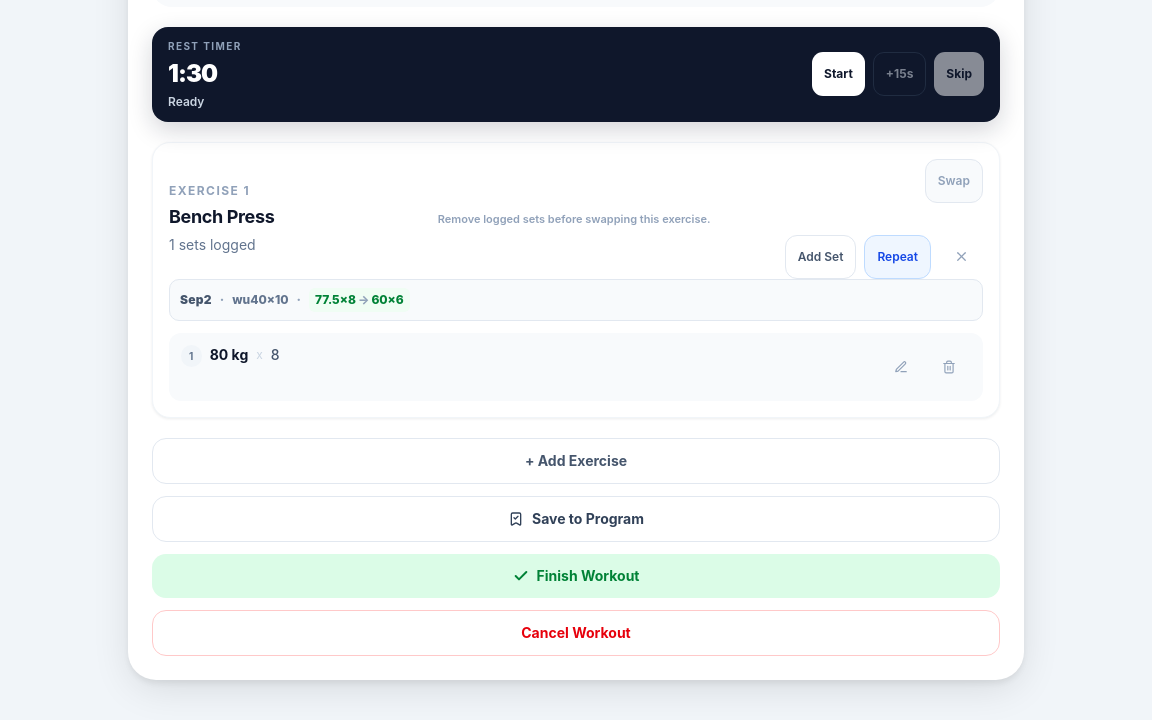
Test: WorkoutPage regression coverage › asks for confirmation before finishing and keeps the workout active until it is confirmed
(page scrolled)
Click the button "Finish Workout": x=576, y=576 [152,554,1000,598]
(page scrolled)
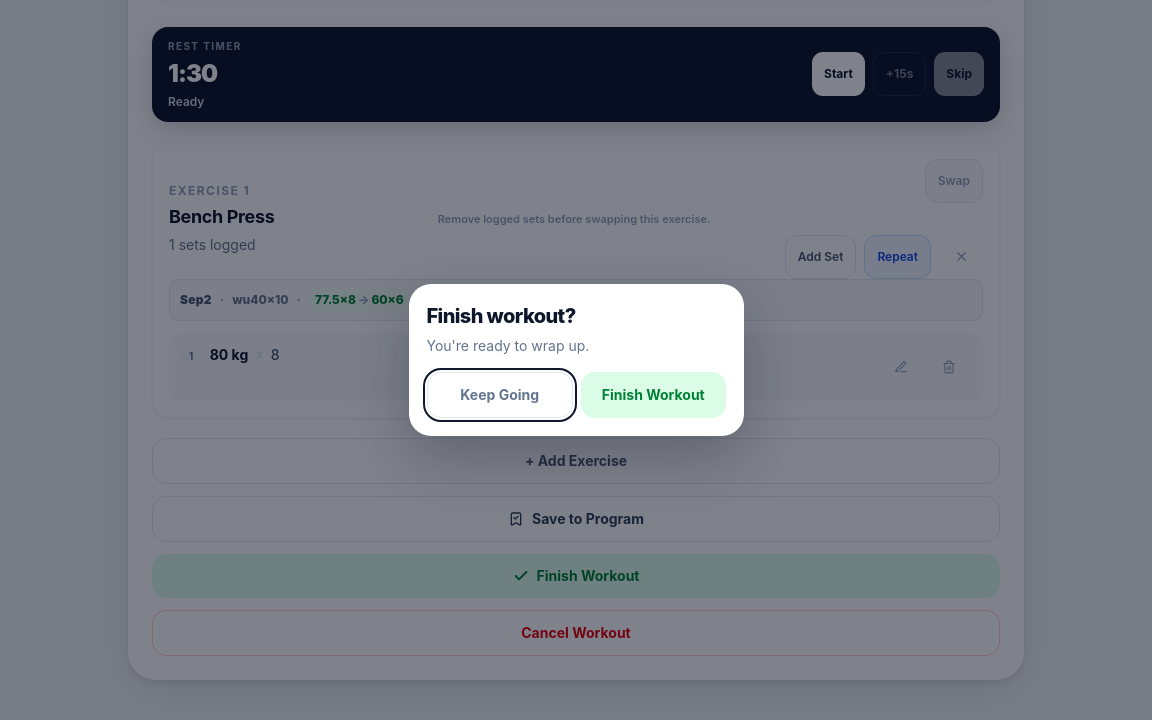
Now the text "You're ready to wrap up." is shown, box [426,337,589,354]
